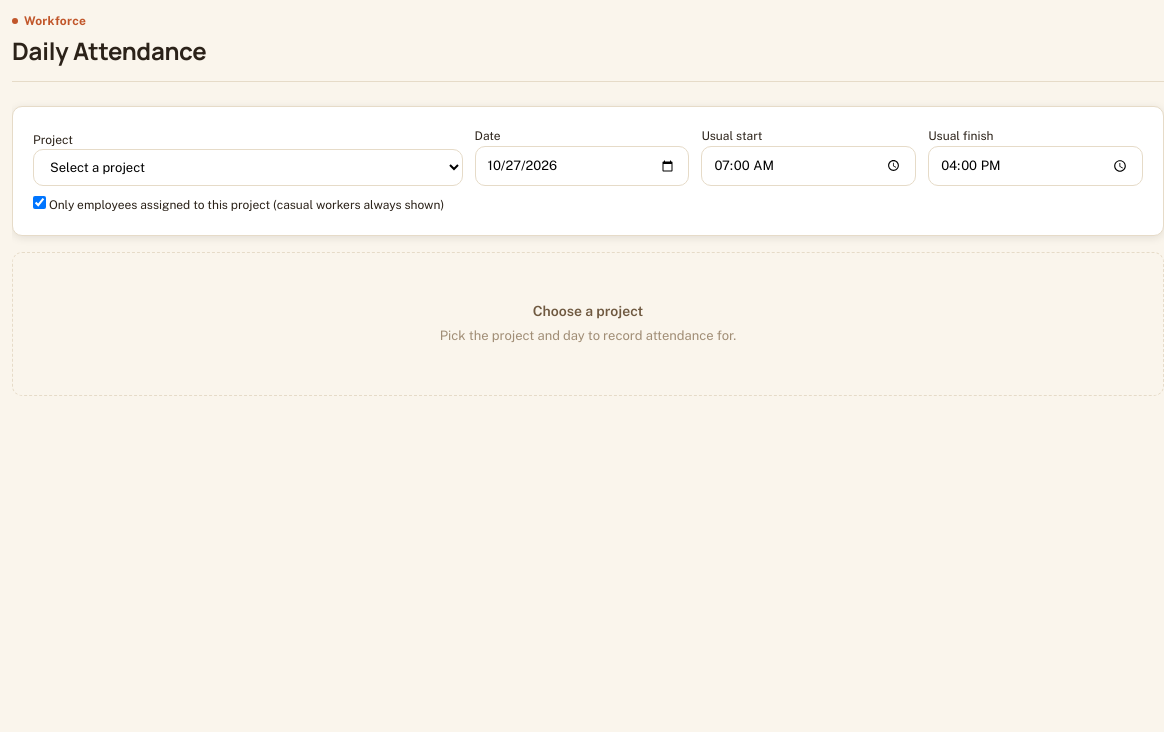
Test: AttendancePage › marks everyone present and saves them in one request
The width and height of the screenshot is (1164, 732).
Select "Lekki Tower" in the dropdown labelled "Project" at (248, 168), box [33,149,463,186]
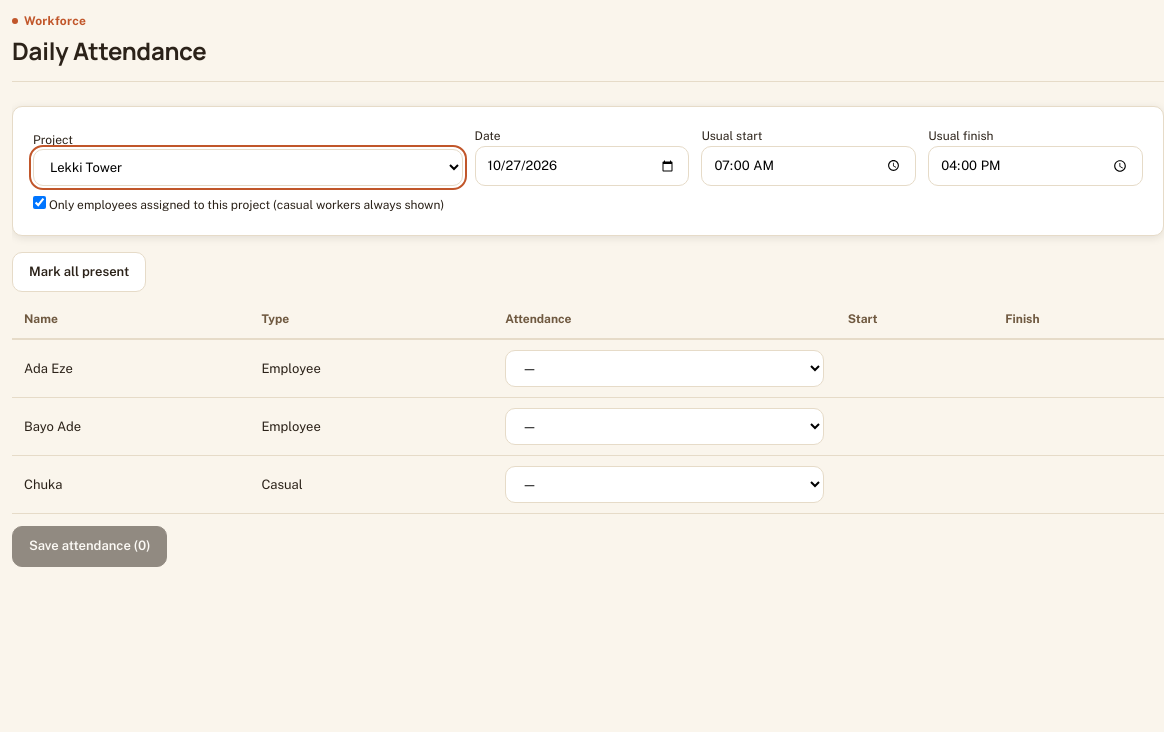
Expected: the text "Ada Eze" is shown, [12,340,249,398]
Click the button "Mark all present" at (79, 272), box [12,252,146,292]
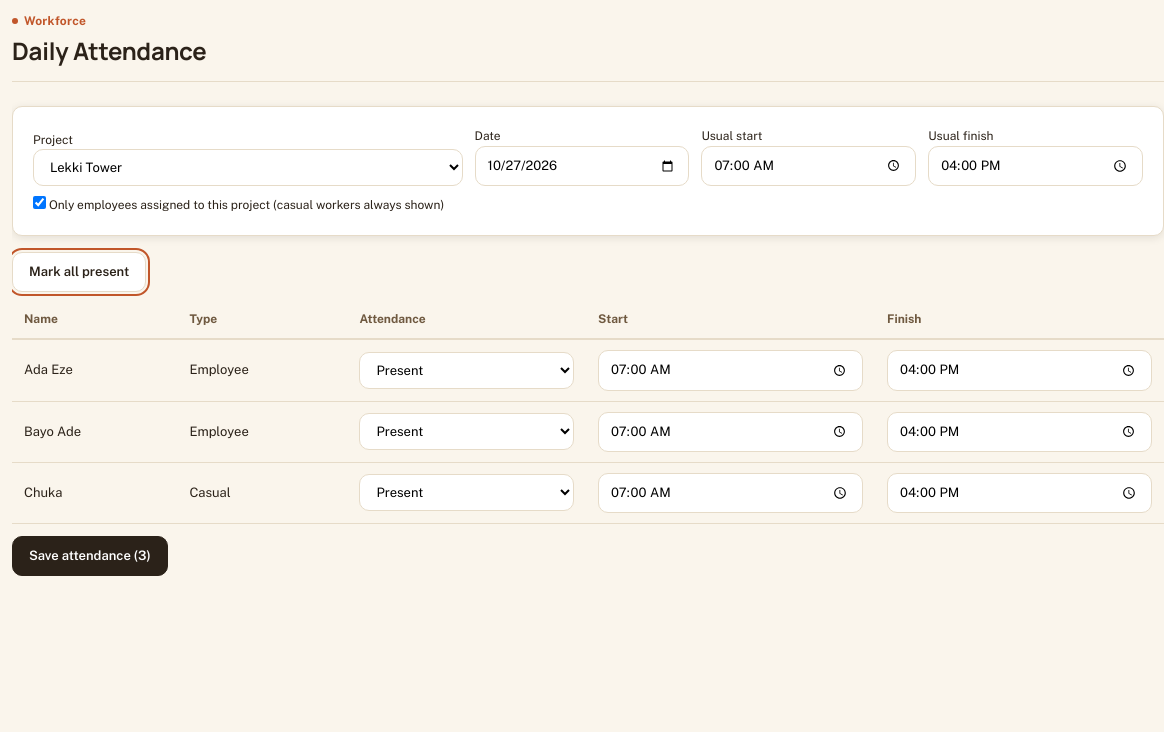
Select "Absent" in the dropdown named "Attendance for Bayo Ade" at (467, 432), box [359,413,574,450]
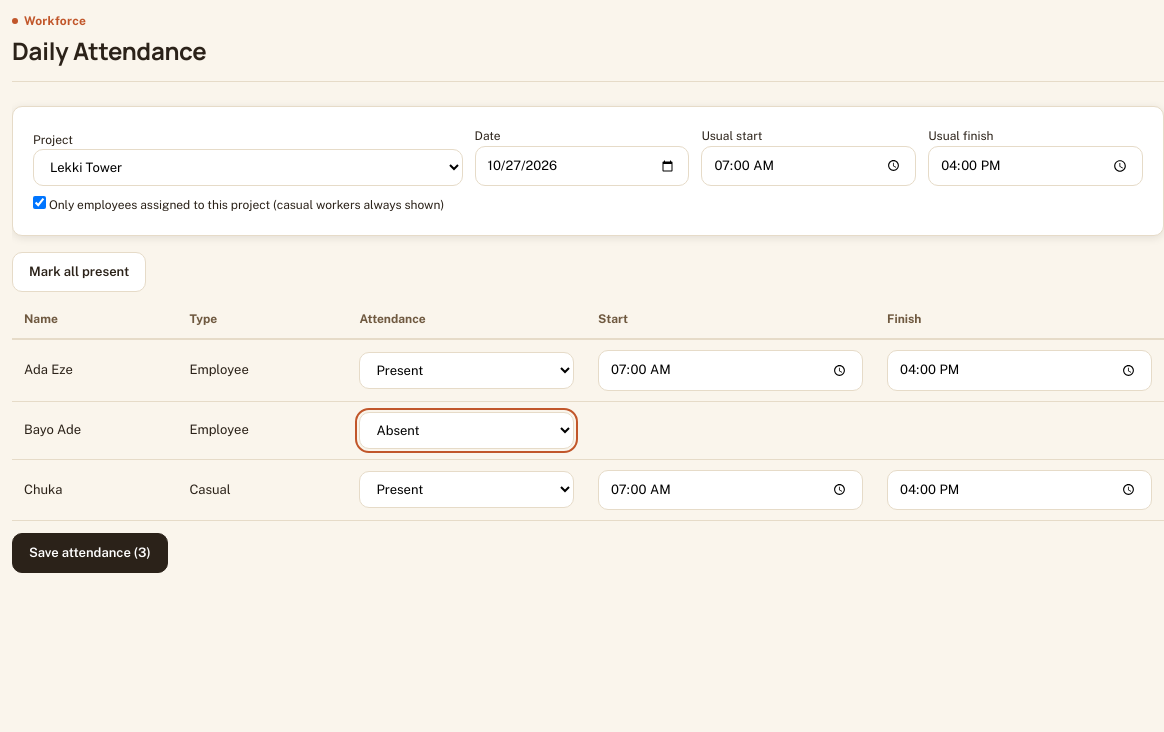
Click the button "Save attendance (3)" at (90, 553), box [12,533,168,573]
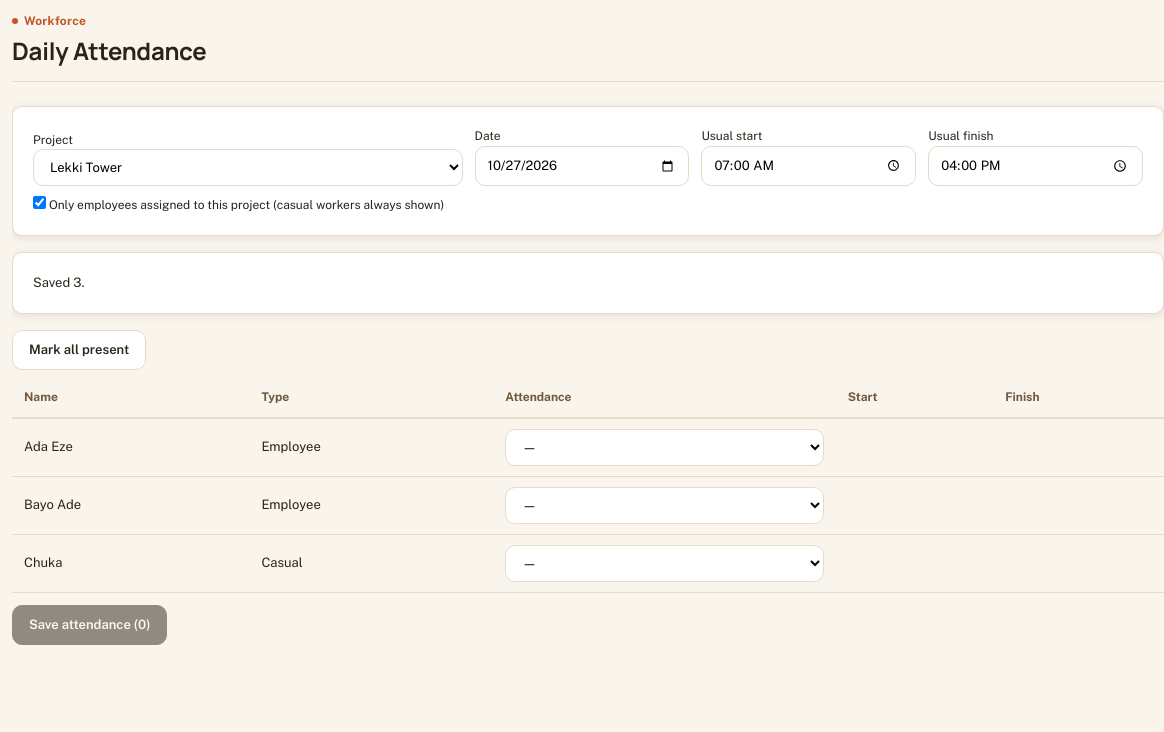
Expected: the text "Saved 3." is shown, [33,275,84,290]
